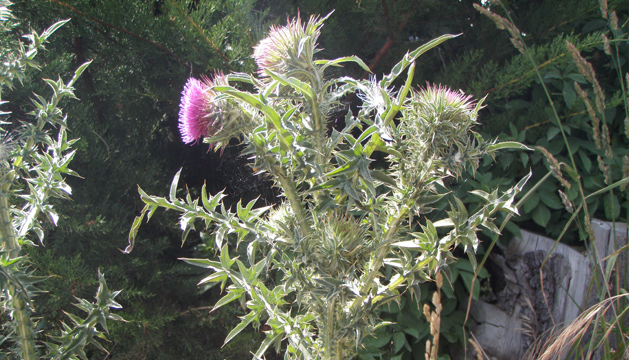thistle: (160, 68, 254, 143)
